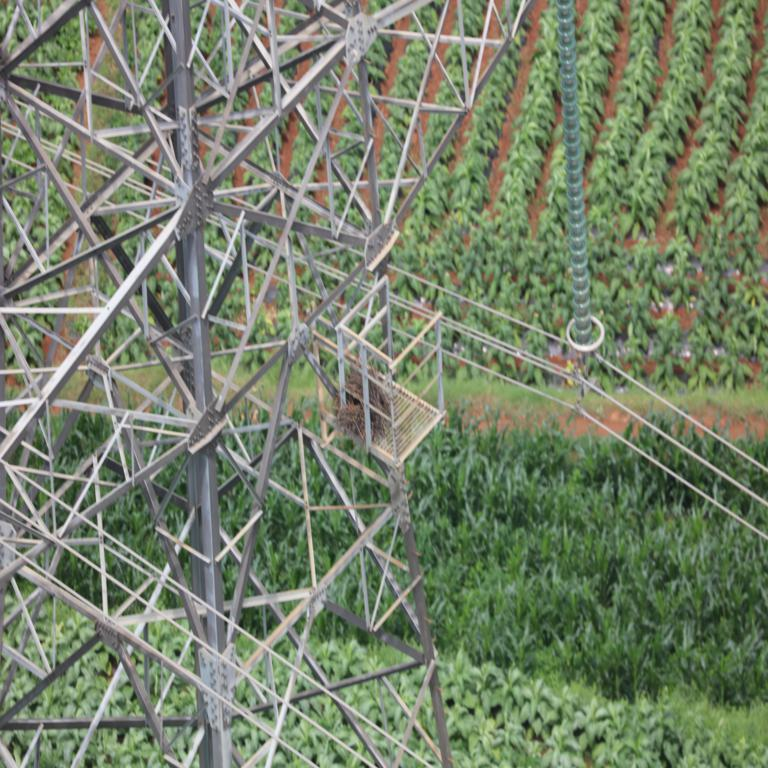nest: (333, 370, 386, 437)
